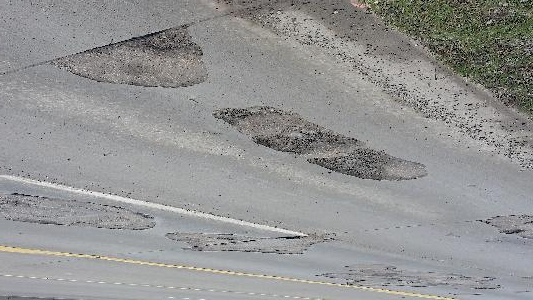pothole: (252, 130, 356, 153), (307, 153, 386, 183), (135, 27, 197, 53)
